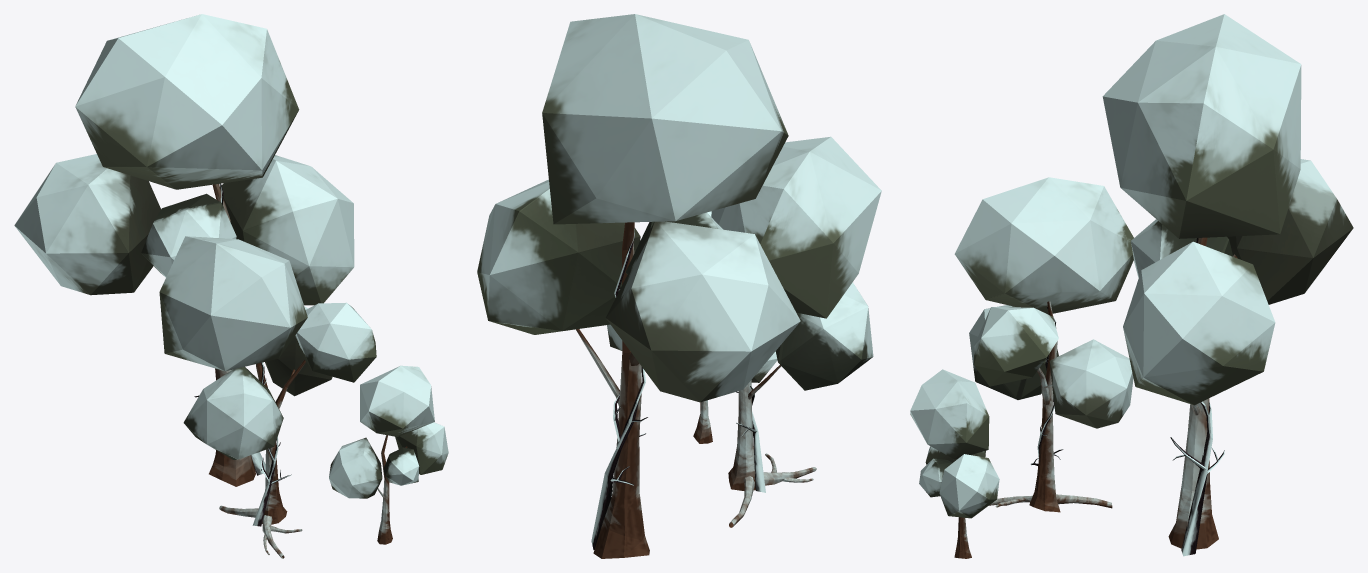
File: 3_trees_01.FBX
3 renders of one model, left to right at view 1: azimuth 30°, elevation 25°; view 2: azimuth 150°, elevation 25°; view 3: azimuth 270°, elevation 25°, orthographic. The views are drawn at different scales.
Visible parts, largest first — view 1: GeoSphere047, GeoSphere101, GeoSphere102; view 2: GeoSphere047, GeoSphere101, GeoSphere102; view 3: GeoSphere047, GeoSphere101, GeoSphere102.
Boxes of the visible parts, x1,y1,x2,y2 form: GeoSphere047: (14,14,354,486); GeoSphere101: (159,236,376,558); GeoSphere102: (329,365,448,544); GeoSphere047: (477,14,800,558); GeoSphere101: (607,136,881,527); GeoSphere102: (693,351,777,443); GeoSphere047: (1102,14,1353,556); GeoSphere101: (954,177,1133,512); GeoSphere102: (910,369,999,558).
Size of the model in its own units: 120 by 187 by 155.
